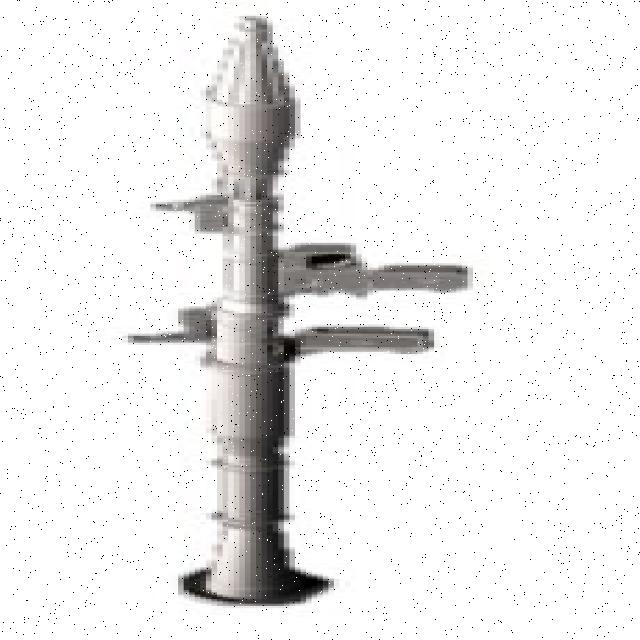bazooka: (126, 21, 493, 615)
